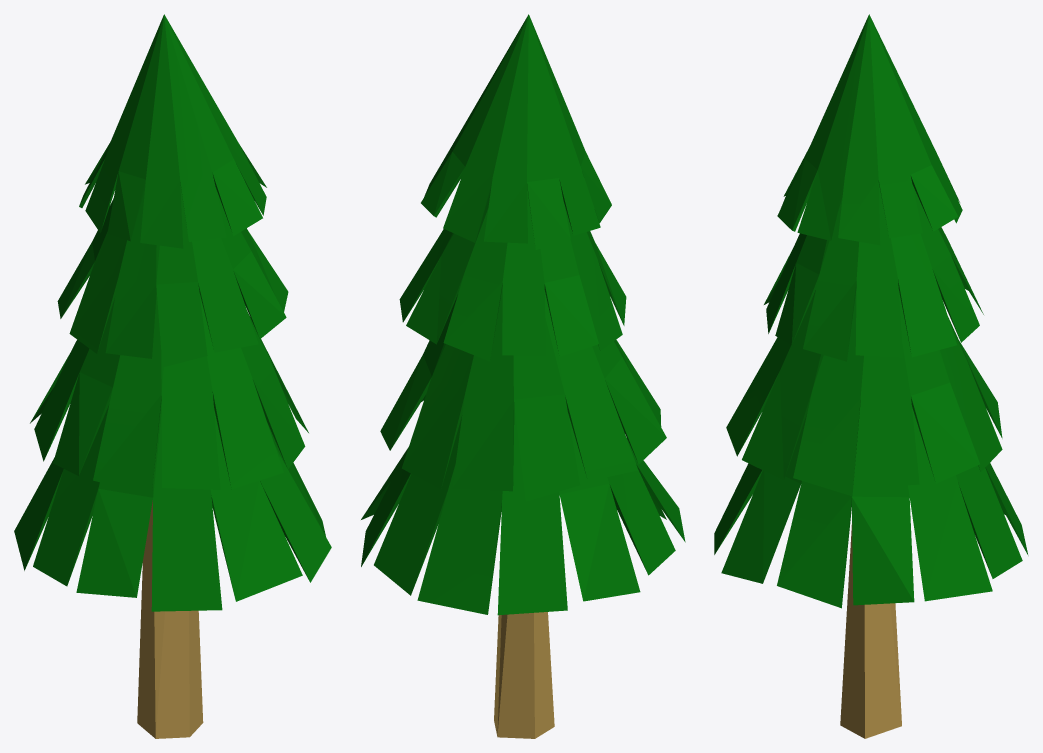
Rendered from Tree_02.fbx.
The picture shows the model from 3 angles, left to right: view 1: azimuth 30°, elevation 25°; view 2: azimuth 150°, elevation 25°; view 3: azimuth 270°, elevation 25°; orthographic projection.
Parts seen in each view (by area): view 1: Tree_02_LOD0; view 2: Tree_02_LOD0; view 3: Tree_02_LOD0.
Boxes of the visible parts, x1,y1,x2,y2 form: Tree_02_LOD0: [14, 14, 331, 738]; Tree_02_LOD0: [361, 14, 685, 738]; Tree_02_LOD0: [714, 14, 1028, 738].
Size of the model in its own units: 0.5094 by 1.27 by 0.5011.
